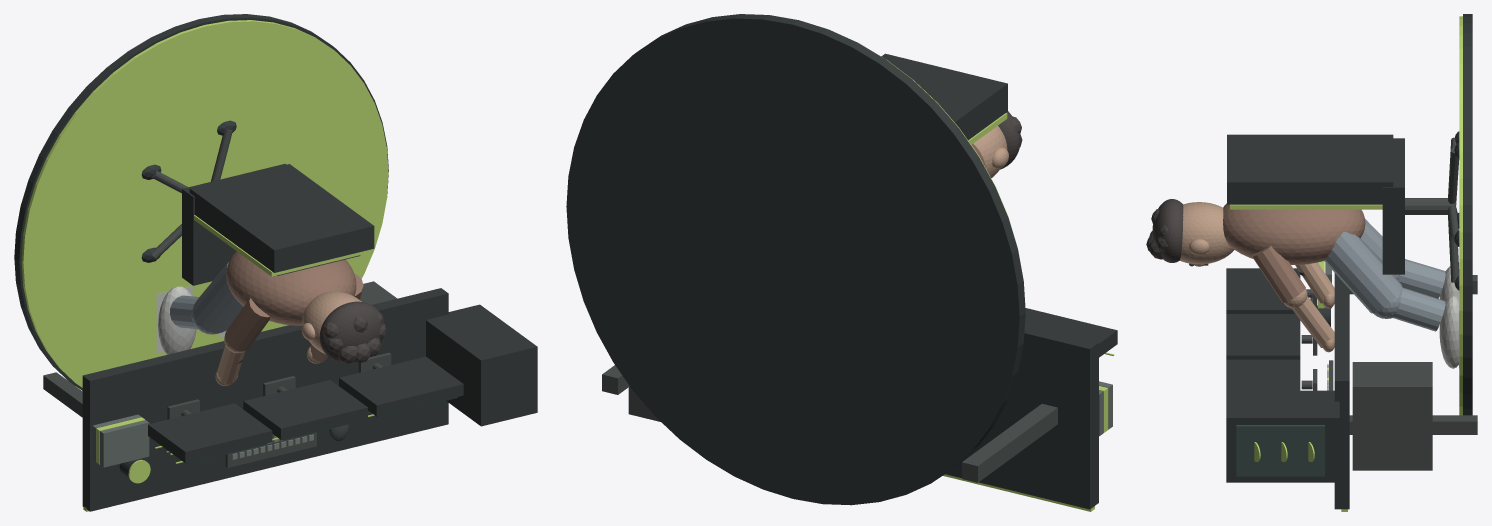
The model's file is nexora_seated_coder_workstation.glb.
The picture shows the model from 3 angles, left to right: view 1: azimuth 30°, elevation 25°; view 2: azimuth 150°, elevation 25°; view 3: azimuth 270°, elevation 25°; orthographic projection. The views are drawn at different scales.
Parts seen in each view (by area): view 1: green_base_trim, desk_top, chair_back, pc_case, torso, monitor_frame0, display_base, monitor_frame1, monitor_frame2, chair_seat, hair_cap, thigh-1 (+9 smaller); view 2: display_base, desk_top, chair_back, desk_leg-1.35, monitor_frame0, head, hair_cap; view 3: chair_back, drawer_unit, torso, pc_case, pc_glass, display_base, monitor_frame1, thigh1, desk_top, chair_seat, monitor_frame2, head (+15 smaller).
Boxes of the visible parts, box(x1,y1,x2,y2) form: green_base_trim: box(21, 20, 388, 387); desk_top: box(82, 288, 448, 511); chair_back: box(189, 164, 374, 272); pc_case: box(426, 304, 537, 426); torso: box(226, 251, 356, 325); monitor_frame0: box(148, 403, 272, 463); display_base: box(14, 14, 388, 390); monitor_frame1: box(243, 380, 367, 439); monitor_frame2: box(339, 356, 463, 416); chair_seat: box(182, 164, 285, 285); hair_cap: box(319, 301, 384, 362); thigh-1: box(193, 261, 243, 333); display_base: box(566, 14, 1025, 505); desk_top: box(945, 324, 1098, 509); chair_back: box(881, 53, 1007, 140); desk_leg-1.35: box(962, 404, 1057, 482); monitor_frame0: box(1025, 308, 1117, 357); head: box(973, 126, 1007, 177); hair_cap: box(998, 111, 1020, 169); chair_back: box(1227, 134, 1393, 204); drawer_unit: box(1352, 362, 1432, 470); torso: box(1223, 203, 1365, 264); pc_case: box(1226, 390, 1339, 482); pc_glass: box(1236, 425, 1324, 476); display_base: box(1463, 14, 1472, 415); monitor_frame1: box(1226, 314, 1300, 359); thigh1: box(1324, 232, 1402, 313); desk_top: box(1334, 273, 1349, 509); chair_seat: box(1382, 138, 1404, 274); monitor_frame2: box(1226, 359, 1300, 390); head: box(1179, 202, 1234, 264).
Size of the model in its own units: 3.77 by 3.52 by 2.69.
